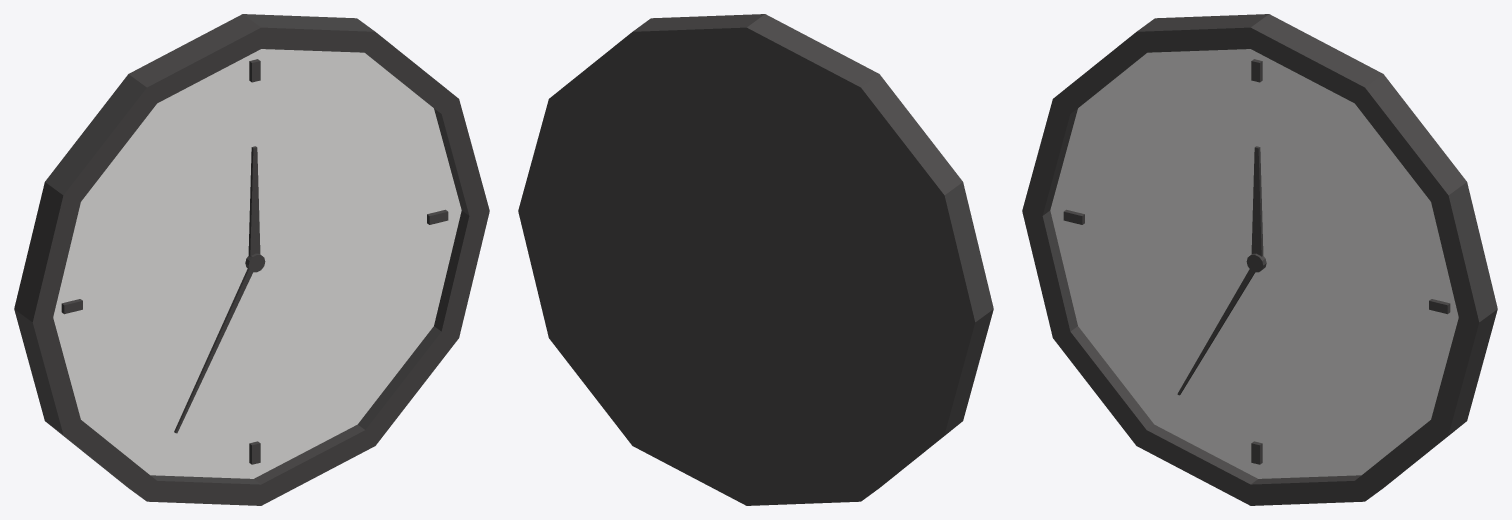
File: Clocck.fbx
3 views of the same model, side by side, from view 1: azimuth 30°, elevation 25°; view 2: azimuth 150°, elevation 25°; view 3: azimuth 330°, elevation 25° (orthographic).
Parts seen in each view (by area): view 1: Clock; view 2: Clock; view 3: Clock.
Boxes of the visible parts, x1=… form: Clock: x1=14, y1=14, x2=489, y2=505; Clock: x1=518, y1=14, x2=993, y2=505; Clock: x1=1022, y1=14, x2=1497, y2=505.
Size of the model in its own units: 50.36 by 50.36 by 3.54.
Materials: 1 (1 with a texture image).
